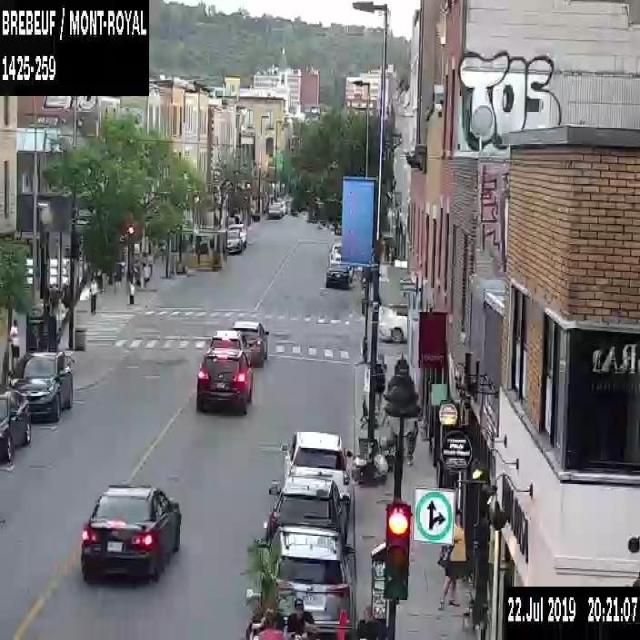pedestrian: (436, 508, 466, 609), (282, 596, 313, 639), (8, 319, 20, 377), (406, 419, 418, 464), (89, 277, 96, 315)
vehicle: (78, 481, 181, 583), (271, 530, 352, 632), (266, 472, 352, 554), (280, 429, 350, 498), (12, 347, 74, 420), (195, 351, 250, 415), (0, 390, 28, 462), (208, 329, 250, 375), (231, 320, 267, 365), (322, 241, 352, 288), (376, 299, 406, 344), (226, 221, 248, 255), (266, 200, 288, 219)
